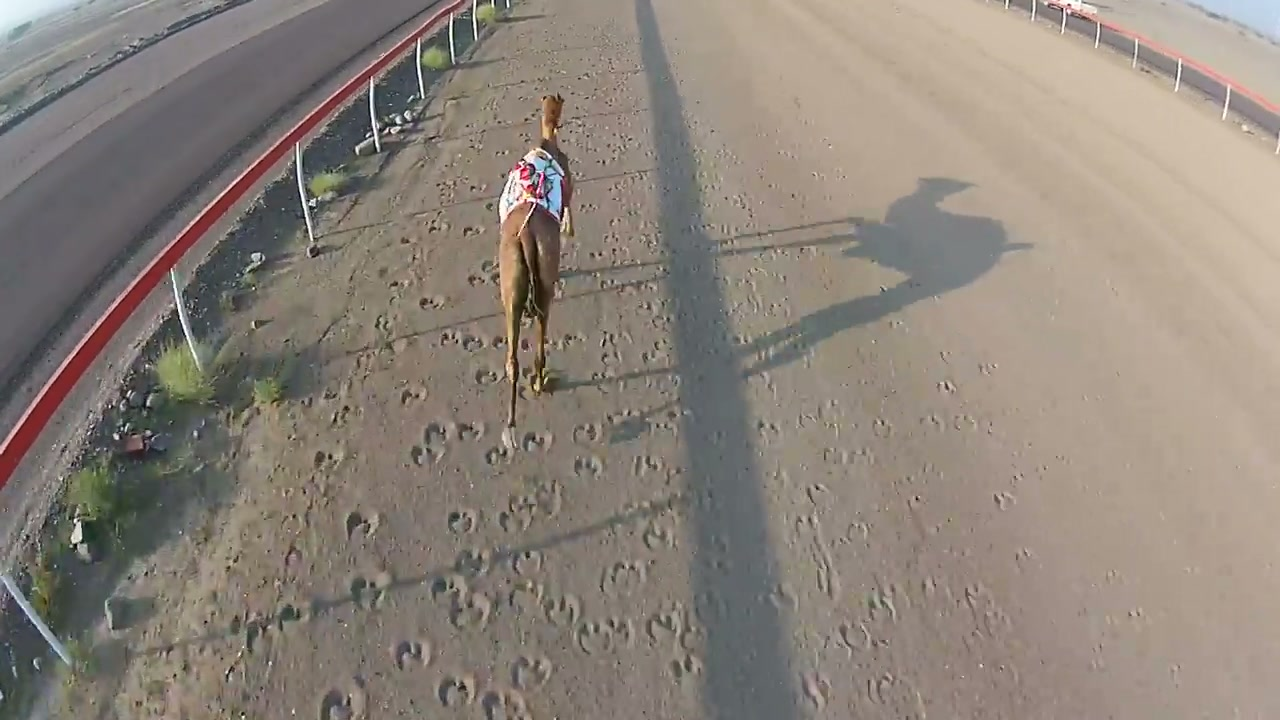animal_footprint: (866, 671, 926, 719), (410, 421, 456, 465), (319, 677, 366, 719), (646, 603, 687, 647), (600, 560, 647, 597), (349, 571, 393, 609), (480, 688, 530, 719), (450, 592, 491, 629), (512, 656, 553, 691), (437, 672, 477, 707), (508, 578, 545, 615), (575, 620, 614, 654), (542, 593, 581, 627), (391, 639, 431, 670), (800, 671, 831, 710), (532, 479, 562, 518), (429, 573, 468, 602), (344, 510, 380, 540), (667, 653, 703, 683), (455, 549, 492, 578), (604, 617, 636, 648), (642, 521, 675, 551), (511, 549, 542, 575), (447, 508, 478, 534), (574, 455, 603, 478), (633, 455, 664, 476), (521, 431, 553, 451), (572, 423, 602, 444), (485, 444, 513, 465), (456, 421, 484, 441), (473, 368, 504, 385), (460, 334, 485, 351), (418, 295, 447, 309)
